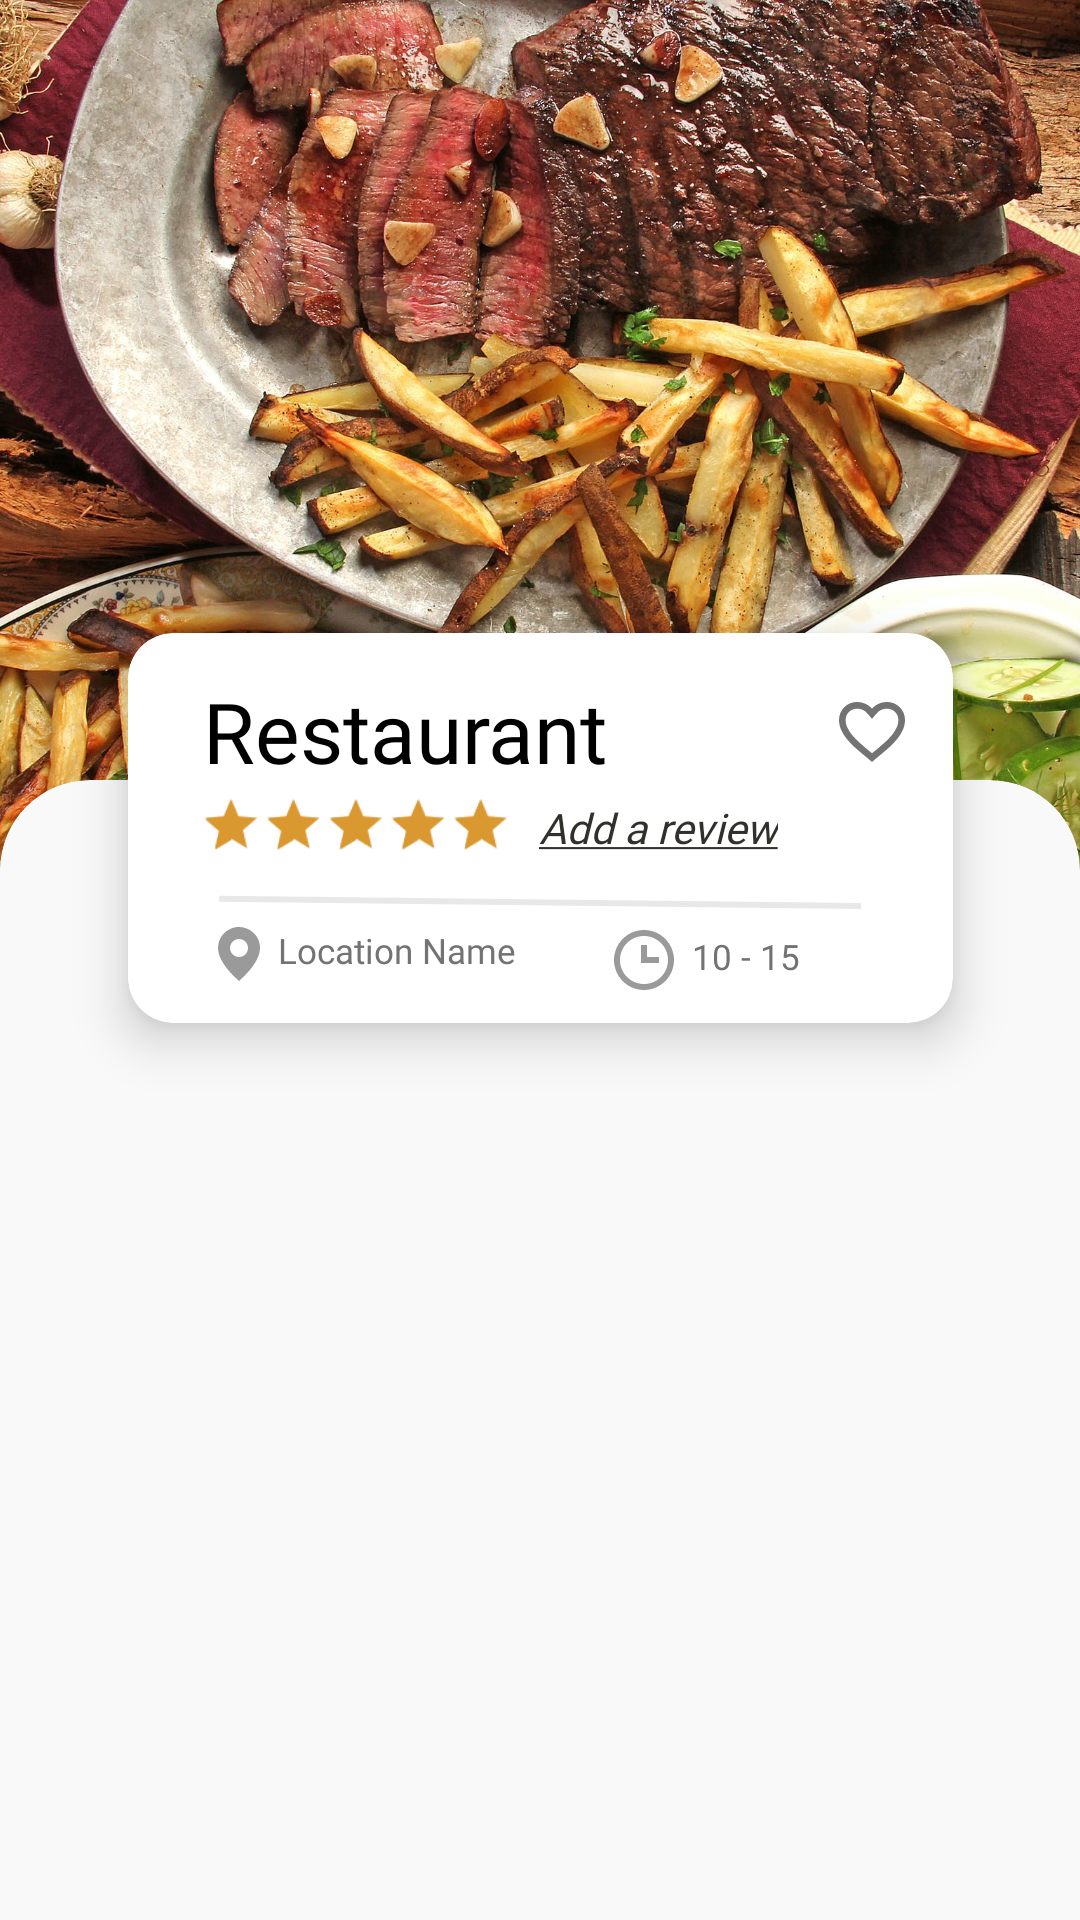

Icon click points for this 1080×1920 phone screenshot, format (x=x, y=y):
clock: (x=644, y=960)
heart: (x=872, y=732)
